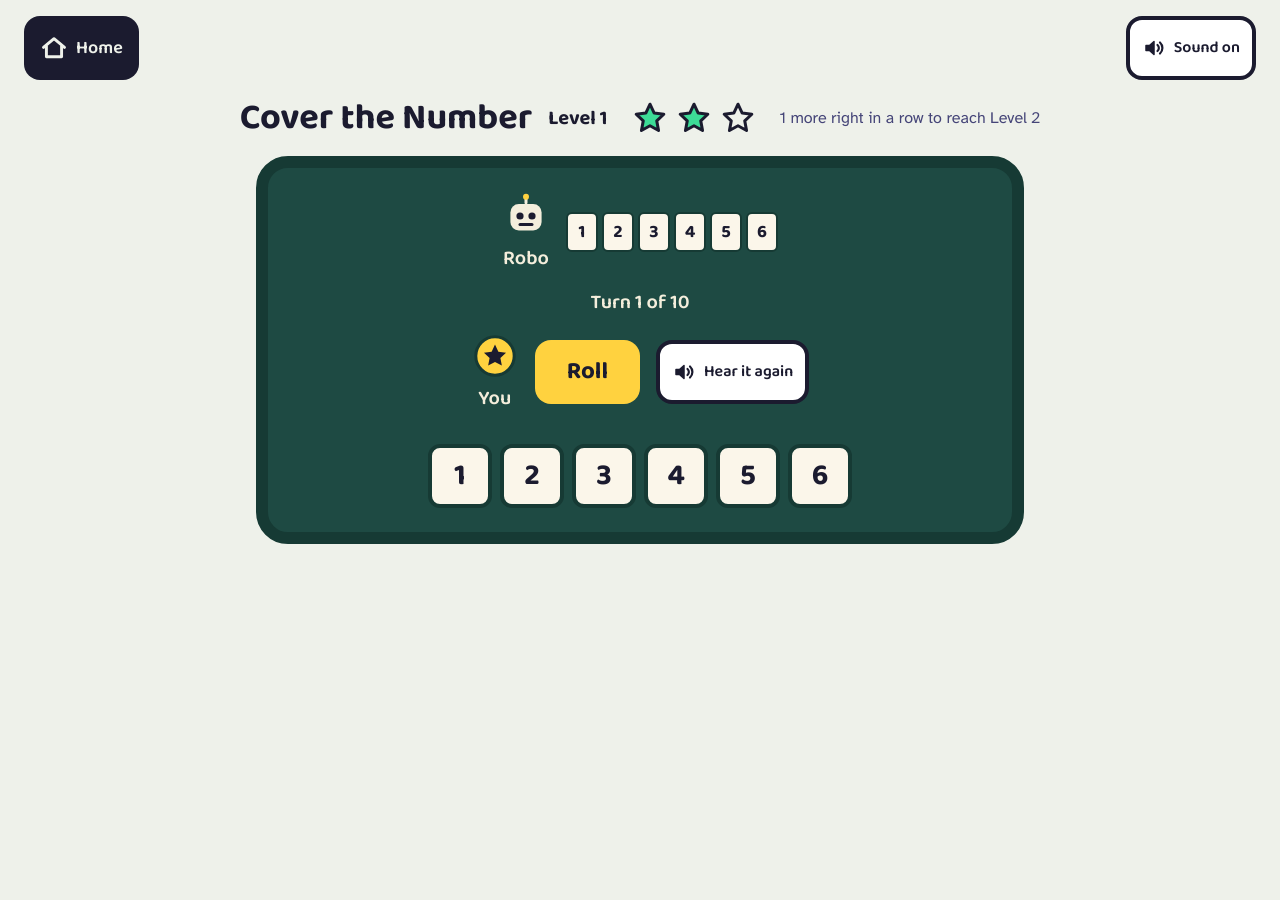
Test: a wrong tap wobbles, outlines the right number, resets the stars and shows and speaks the hint with no red text
Click the button "Roll" at (587, 372), box [535, 340, 640, 404]
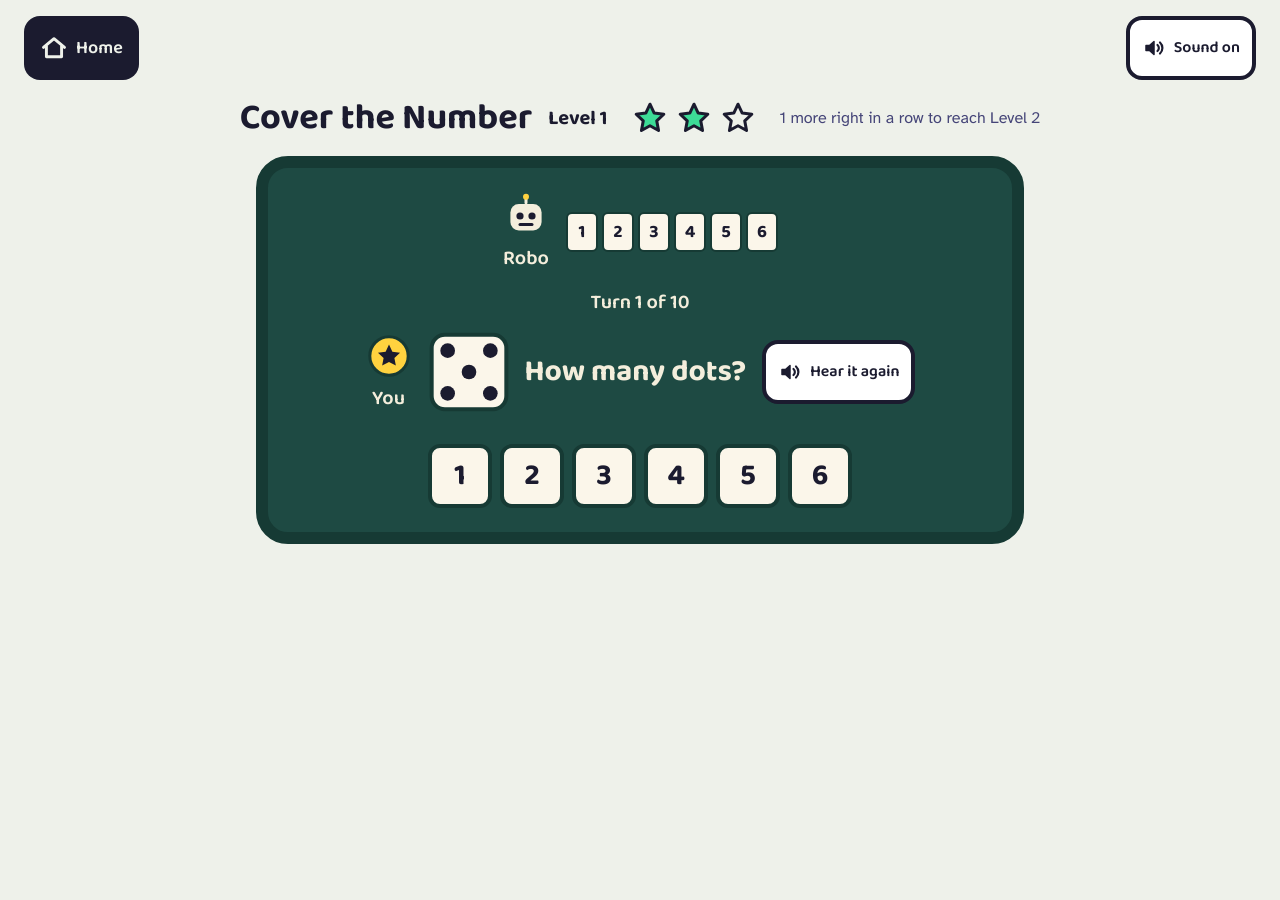
Expected: the picture named "2 of 3 stars" is shown, [624, 96, 764, 140]
Click the button named "Number 6" at (820, 476), box [788, 444, 852, 508]
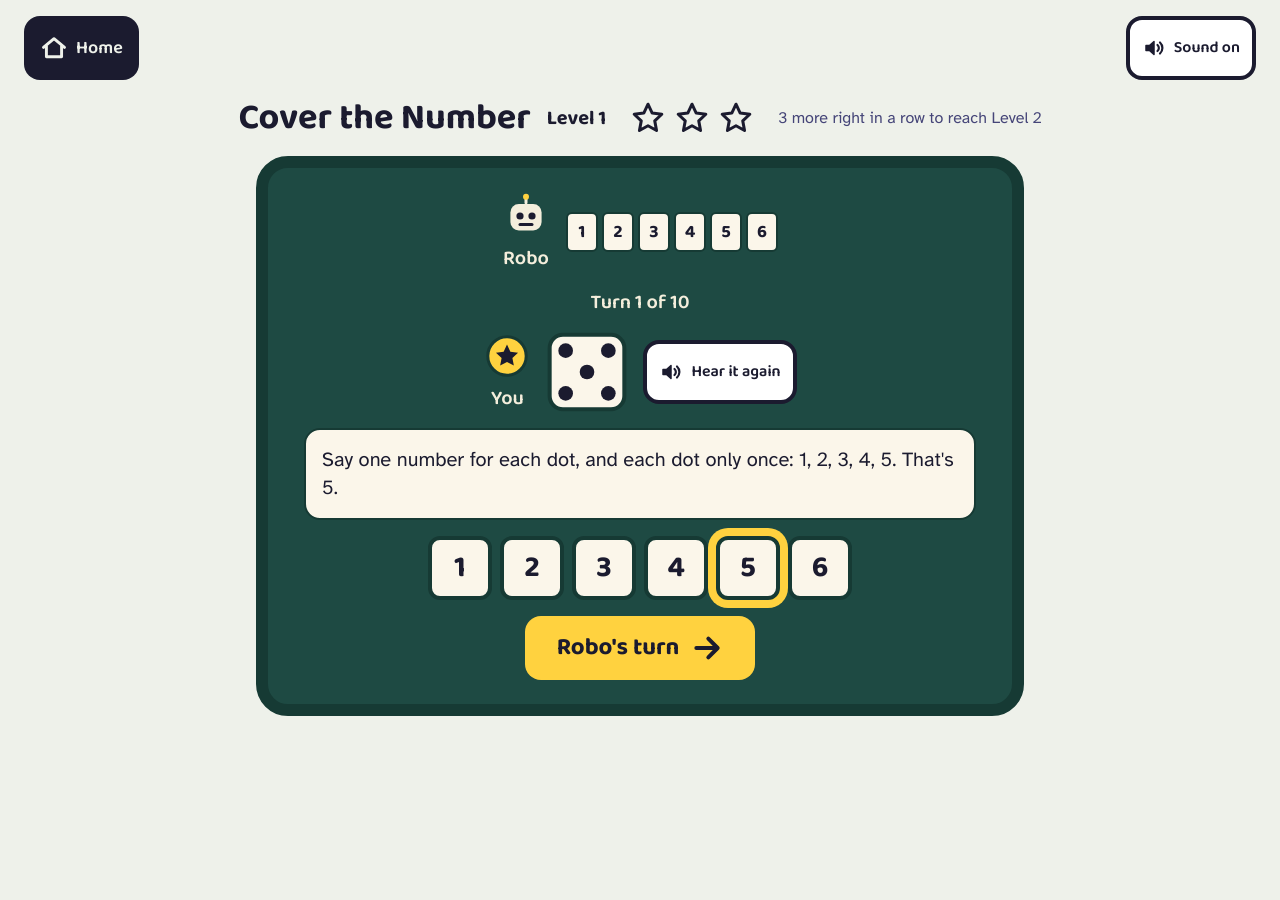
Expected: the text "Say one number for each dot, and each dot only once: 1, 2, 3, 4, 5. That's 5." is shown, [304, 428, 976, 520]
Expected: the picture named "0 of 3 stars" is shown, [622, 96, 762, 140]
